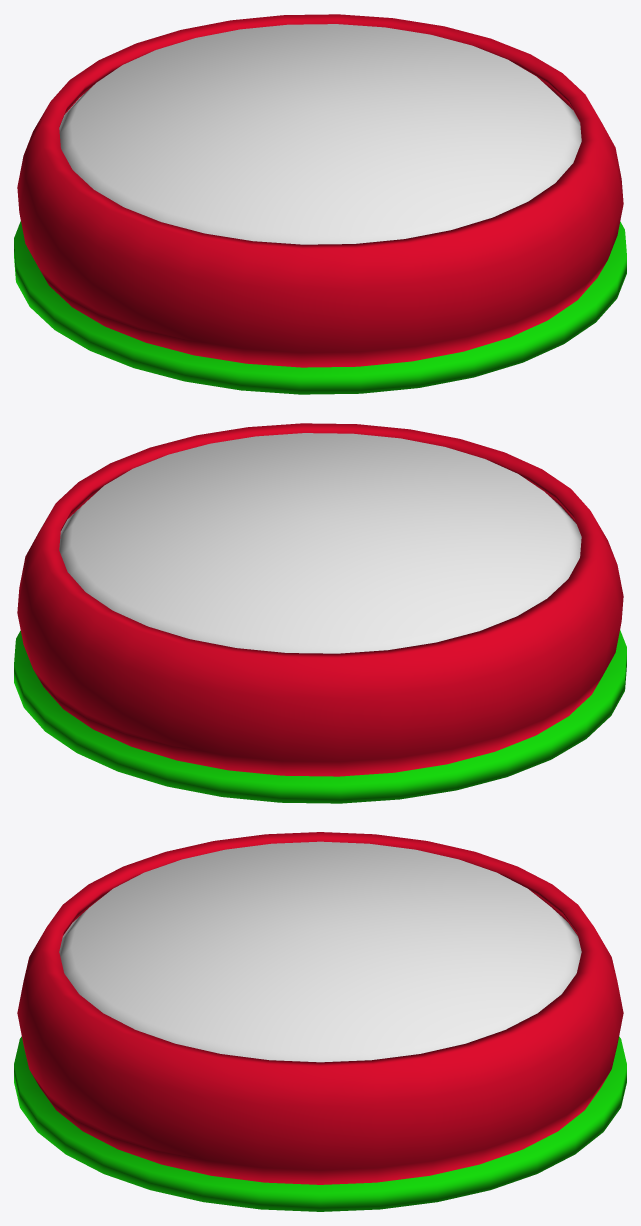
Rendered from thing_sep_low.fbx.
The picture shows the model from 3 angles, top to bottom: view 1: azimuth 30°, elevation 25°; view 2: azimuth 150°, elevation 25°; view 3: azimuth 270°, elevation 25°; orthographic projection.
Parts seen in each view (by area): view 1: thing_low, glass_low; view 2: thing_low, glass_low; view 3: thing_low, glass_low.
Part boxes in pixels (x1,y1,x2,y2): thing_low: [14, 14, 626, 394]; glass_low: [59, 24, 581, 244]; thing_low: [14, 423, 626, 803]; glass_low: [59, 433, 581, 653]; thing_low: [14, 832, 626, 1211]; glass_low: [59, 841, 581, 1062].
Bounding box in the file's own units: 220 × 60.27 × 220.
